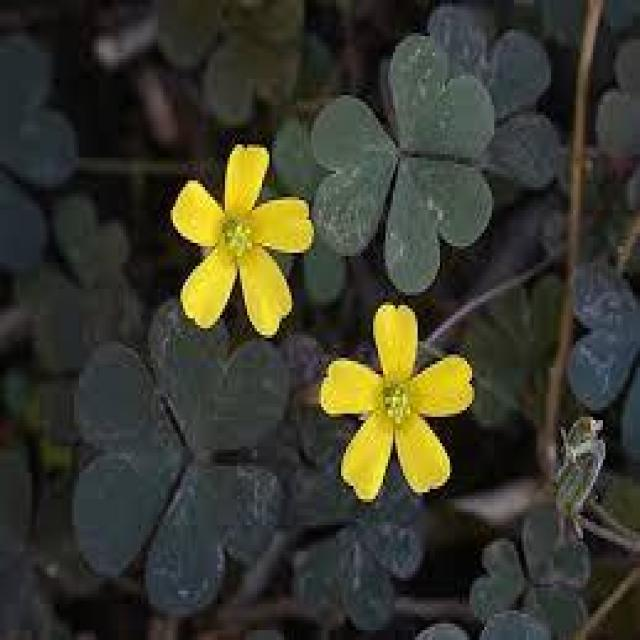organic waste: (322, 300, 476, 510), (170, 141, 319, 341)
